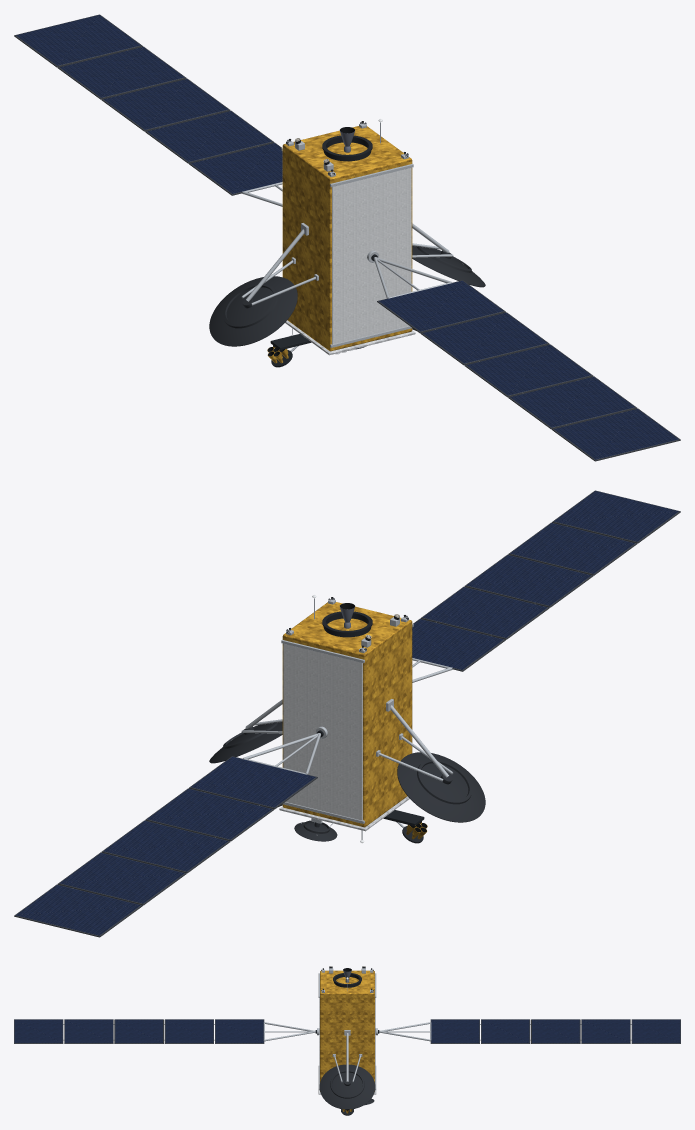
3 views of the same model, one above another, from view 1: azimuth 30°, elevation 25°; view 2: azimuth 150°, elevation 25°; view 3: azimuth 270°, elevation 25° (orthographic). The views are drawn at different scales.
Parts seen in each view (by area): view 1: geo_body, solar_2, solar_1; view 2: geo_body, solar_1, solar_2; view 3: geo_body, solar_1, solar_2.
Part boxes in pixels (bbox=[...]): geo_body: bbox=[209, 119, 485, 367]; solar_2: bbox=[367, 250, 680, 461]; solar_1: bbox=[14, 14, 282, 206]; geo_body: bbox=[209, 595, 485, 843]; solar_1: bbox=[14, 726, 327, 937]; solar_2: bbox=[412, 490, 680, 682]; geo_body: bbox=[318, 966, 376, 1115]; solar_1: bbox=[375, 1019, 680, 1043]; solar_2: bbox=[14, 1019, 319, 1043].
Size of the model in its own units: 7.91 by 6.7 by 30.4.
15 materials, 5 textured.
